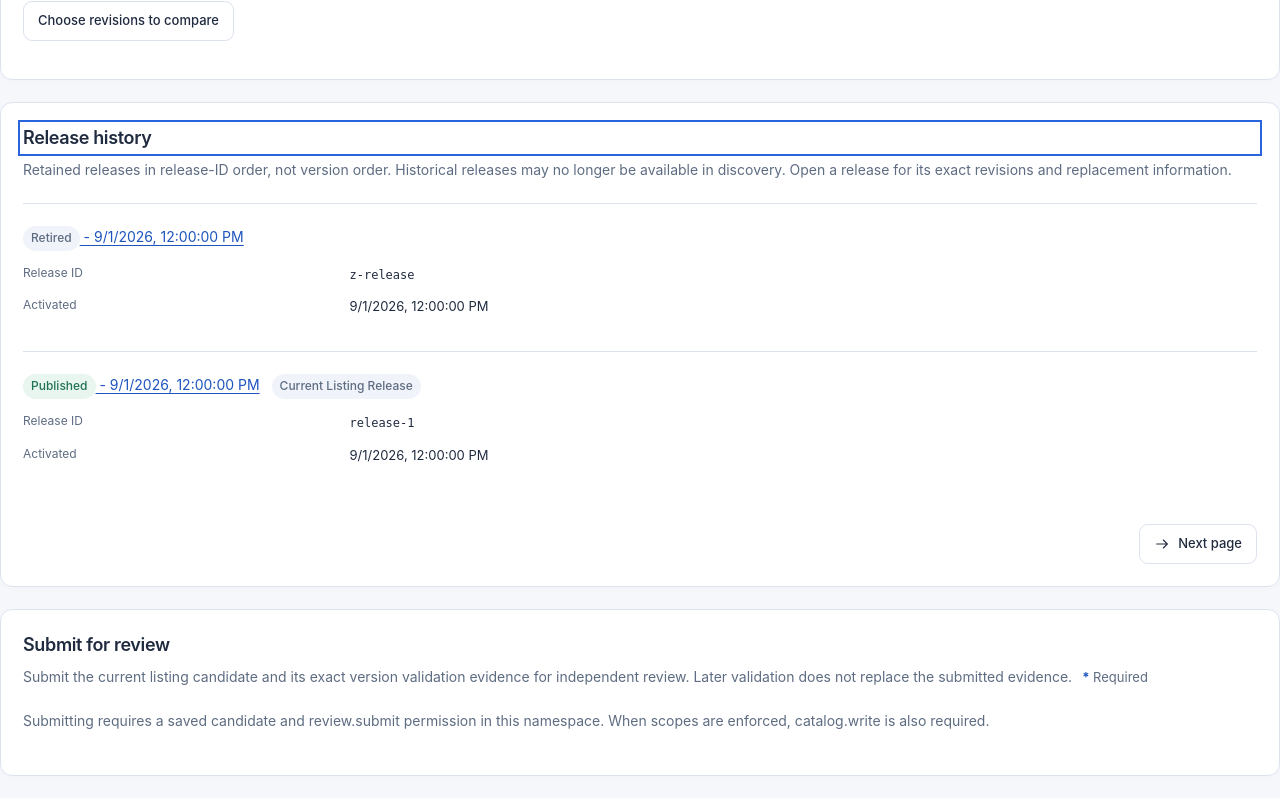
Scenario: preserves page order and recovers from a failed release continuation without stale rows
(page scrolled)
expect the link "retired - 9/1/2026, 12:00:00 PM" is shown: met, box [23,228,244,245]
Click the button "Next page" at [1198, 544], box [1139,524,1257,564]
(page scrolled)
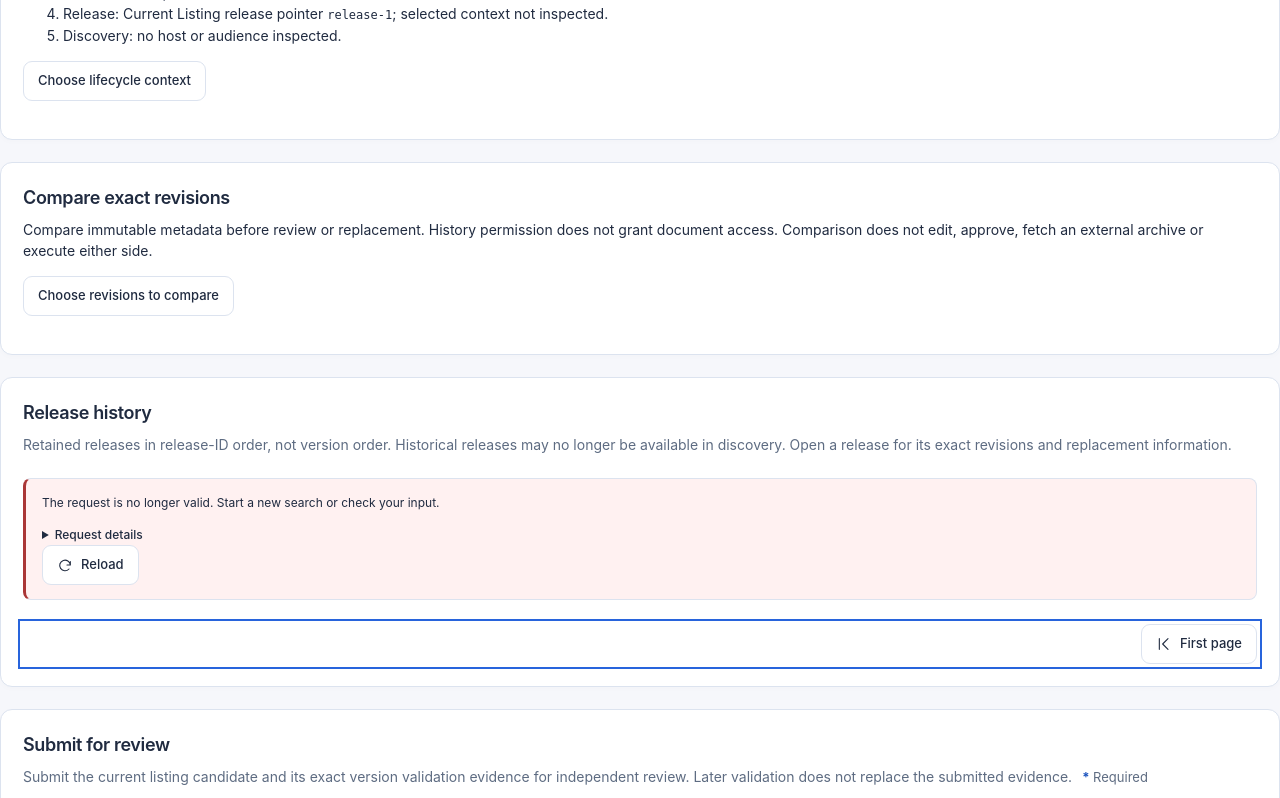
expect the message is shown: met, box [23,478,1257,600]
expect the link "retired" is gone: met
Click the button "First page" at [1199, 644], box [1141,624,1257,664]
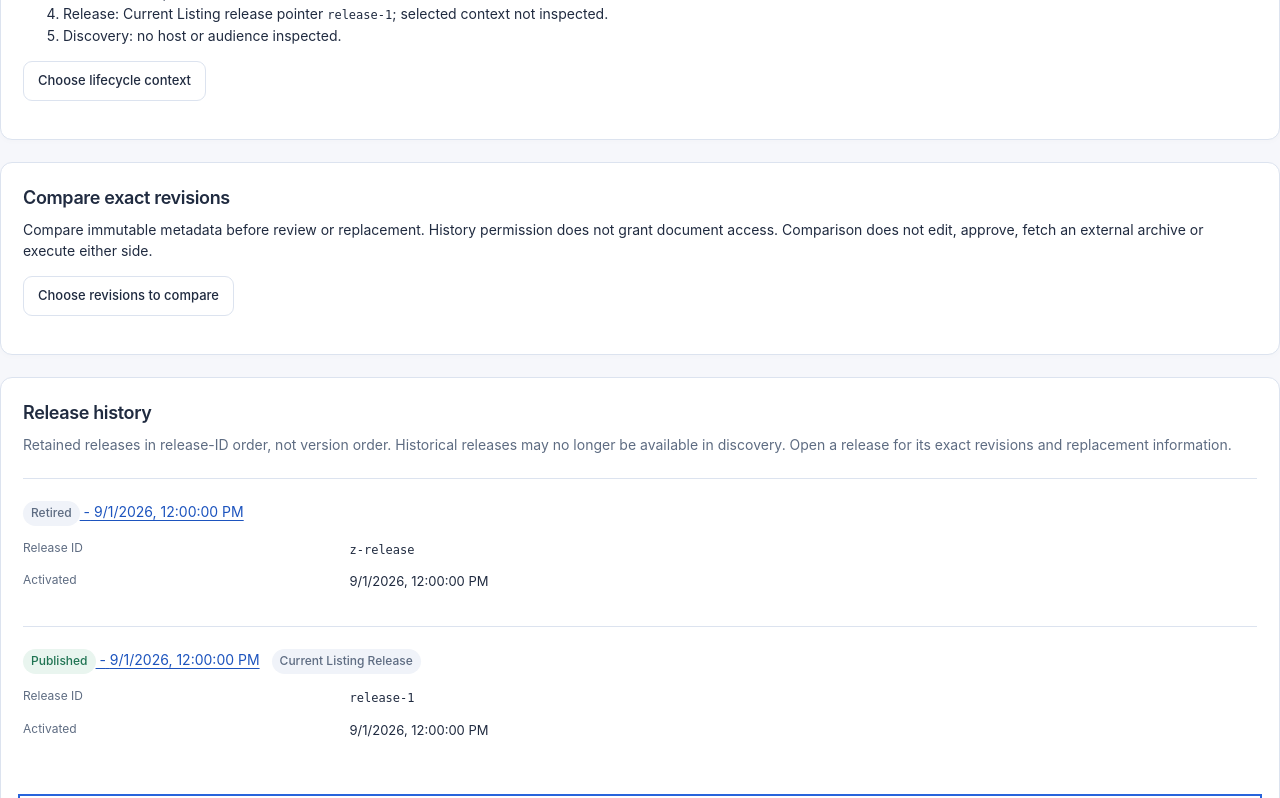
expect the link "retired - 9/1/2026, 12:00:00 PM" is shown: met, box [23,503,244,520]
expect the message "The request is no longer valid. Start a new search or check your input. Request" is gone: met
